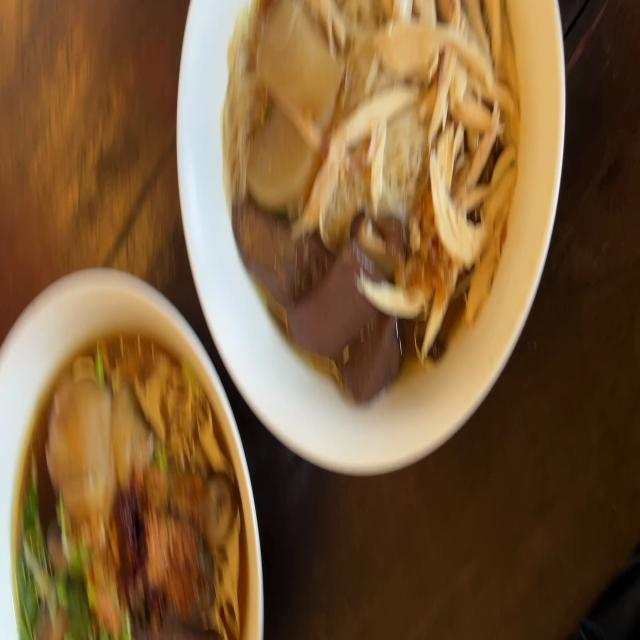boiled_chicken_blood_jelly: (280, 252, 372, 353), (238, 199, 333, 295), (353, 321, 403, 397)
chicken_drumstick: (60, 368, 234, 535)
chicken_shredded: (395, 0, 516, 266), (306, 84, 422, 225)
daikon_radish: (260, 5, 336, 132), (247, 114, 311, 199)
noodle: (212, 0, 519, 409), (5, 330, 254, 640)
